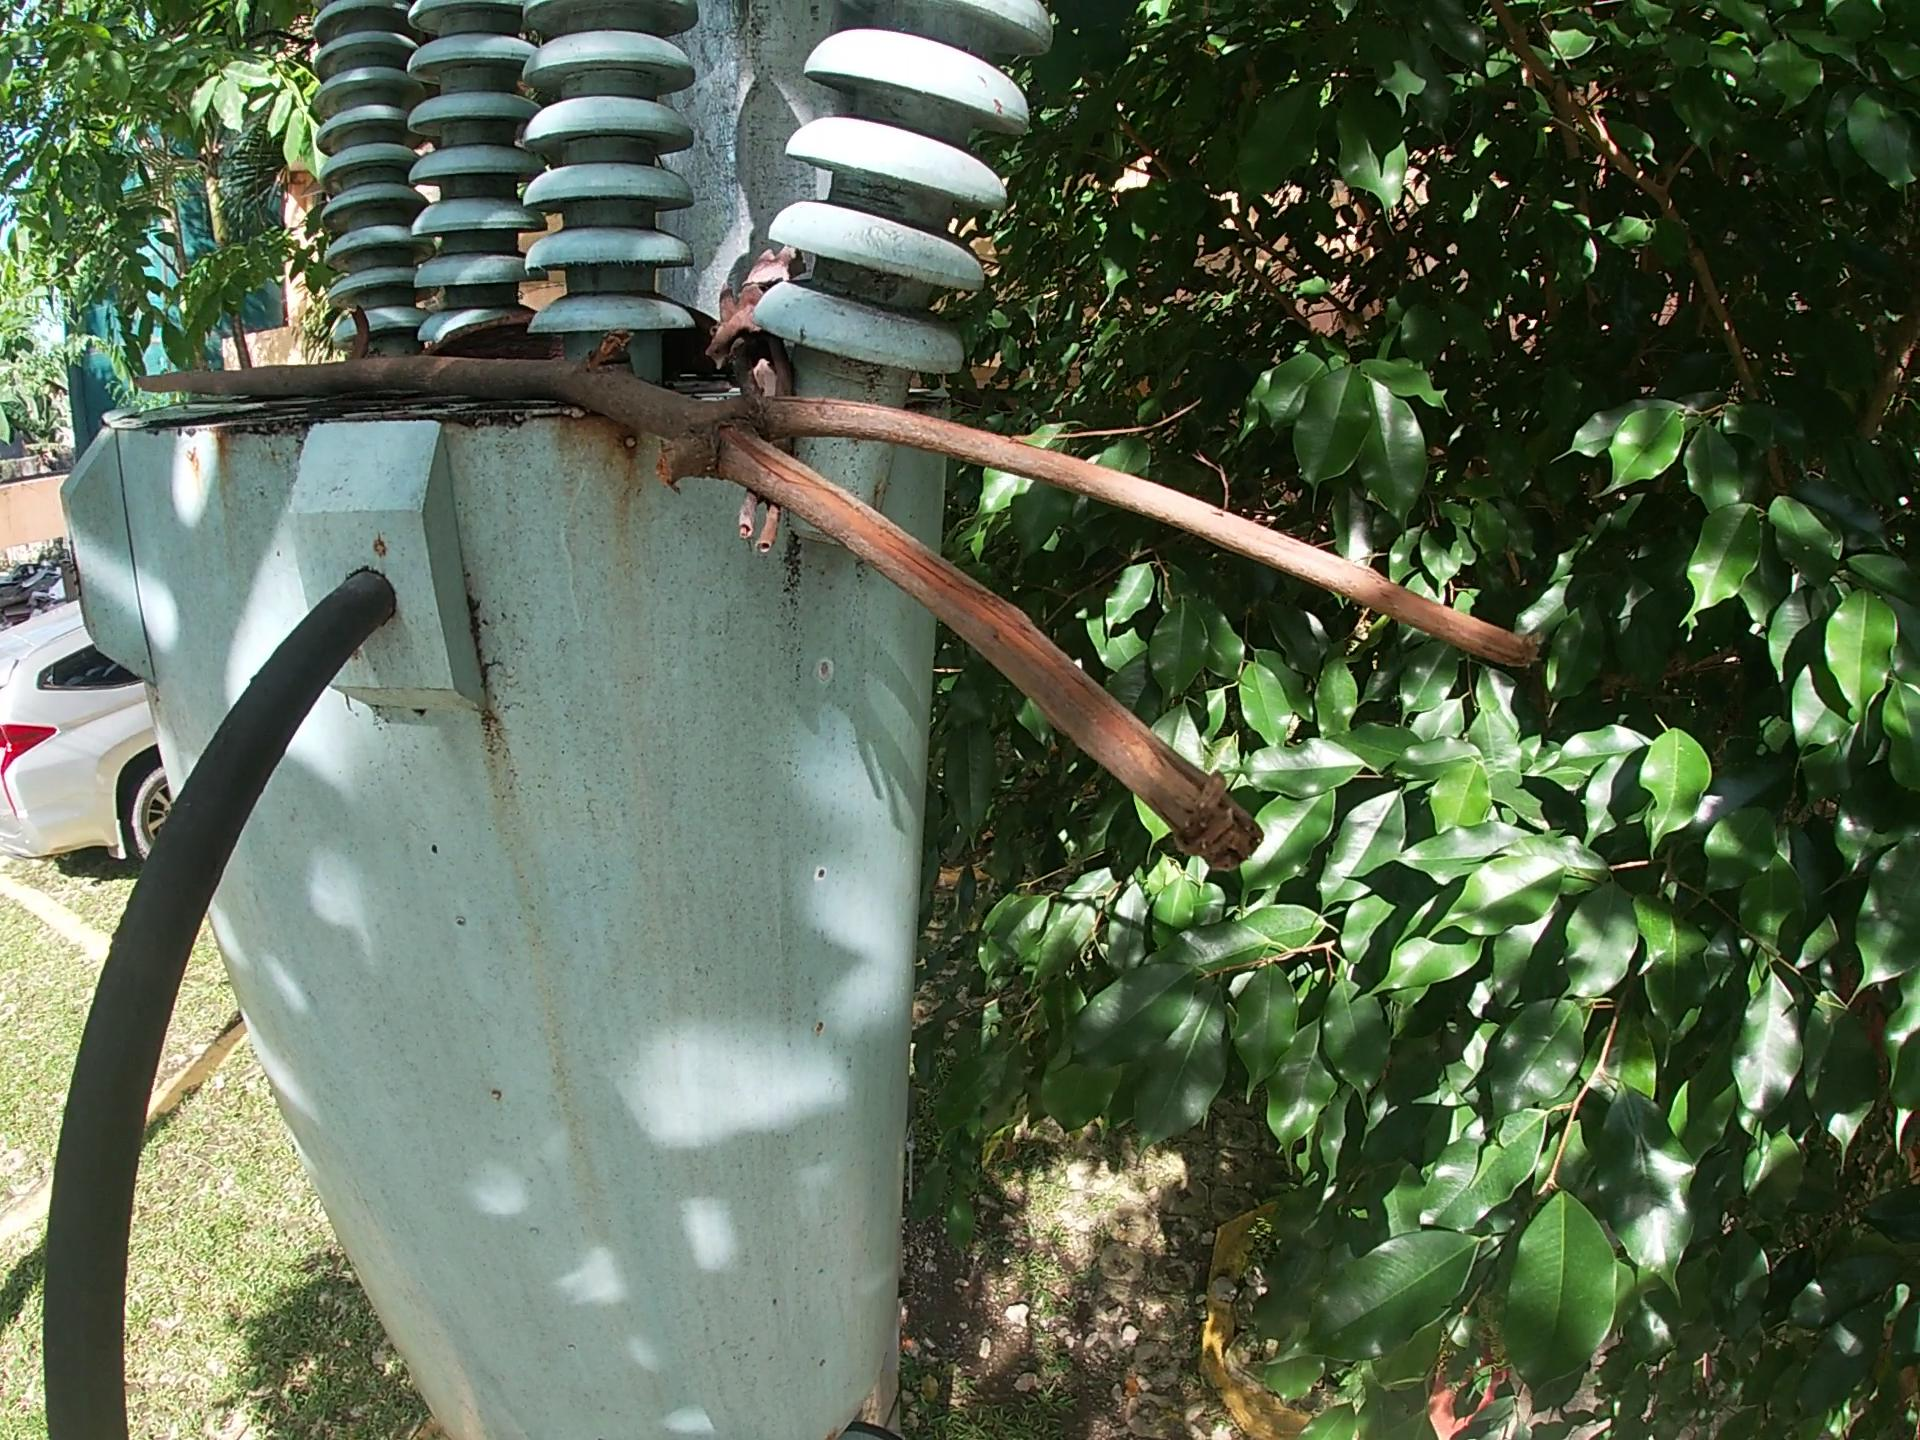mahogany fruit: (425, 301, 721, 378), (342, 306, 376, 362)
tree branch: (116, 315, 1556, 880), (701, 239, 813, 567)
